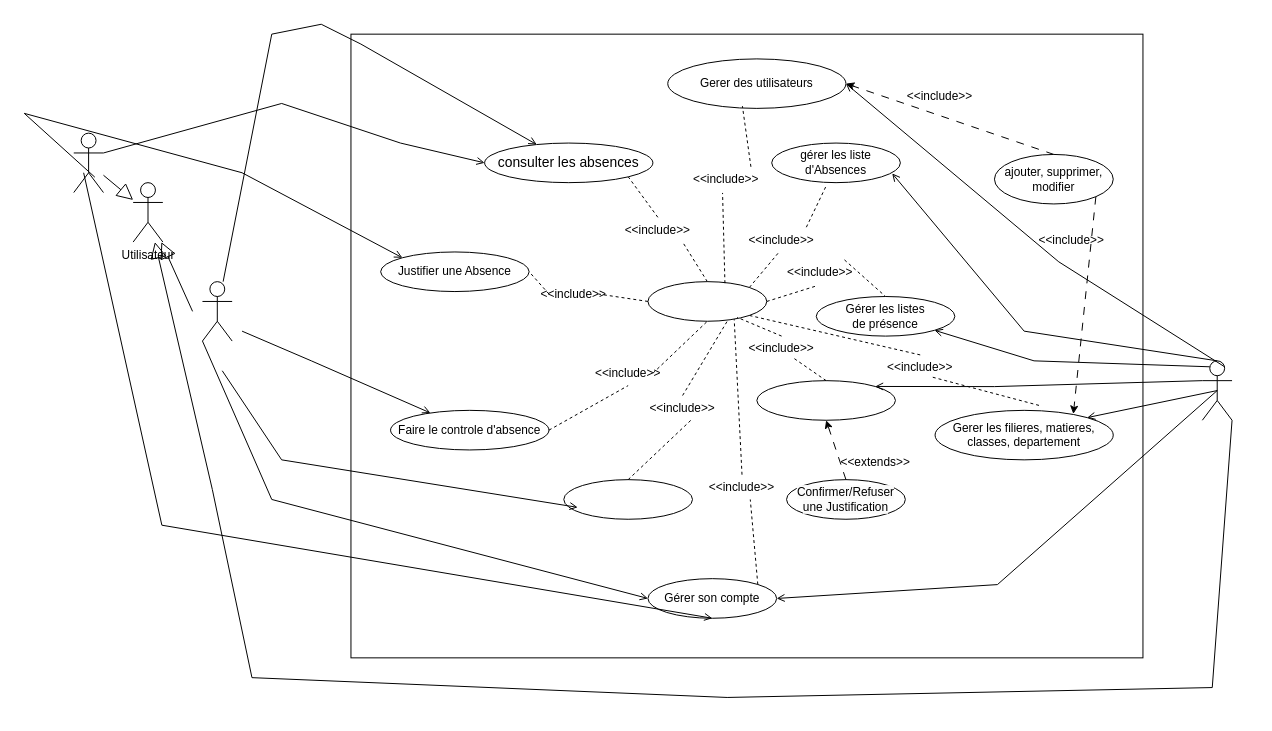
Some shapes in this 1272 by 731 pixel diagram are drawn without their labels. The shapes that lost their labels are listed below. From the top down, each one's box as (x1, y1, x2, y2) in pixels, then its label:
(73, 132, 103, 193): Etudiant
(201, 281, 232, 341): Professeur
(647, 281, 767, 321): S'Authentifier
(756, 380, 895, 420): Gerer des abscence
(1201, 360, 1232, 420): Administrateur
(563, 479, 693, 519): Envoyer la liste d'Absences
